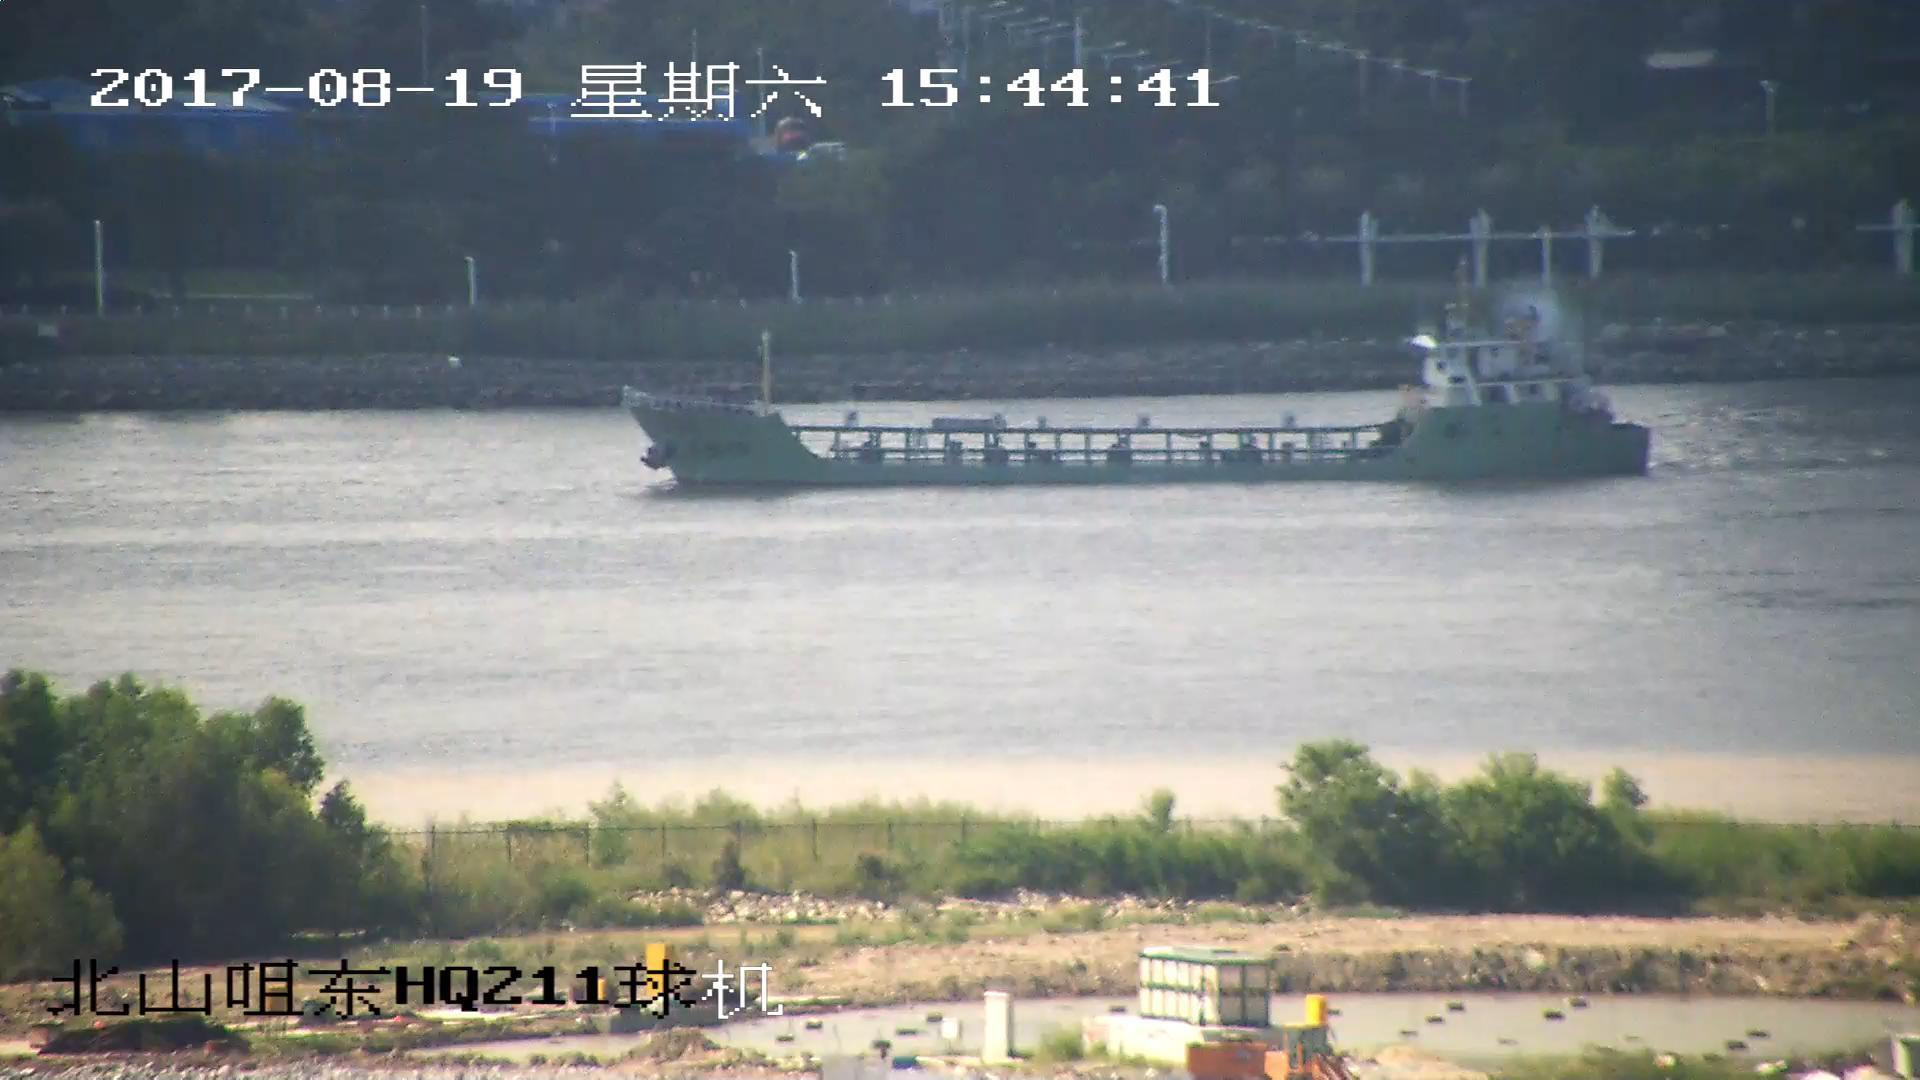Ship: (626, 268, 1651, 479)
